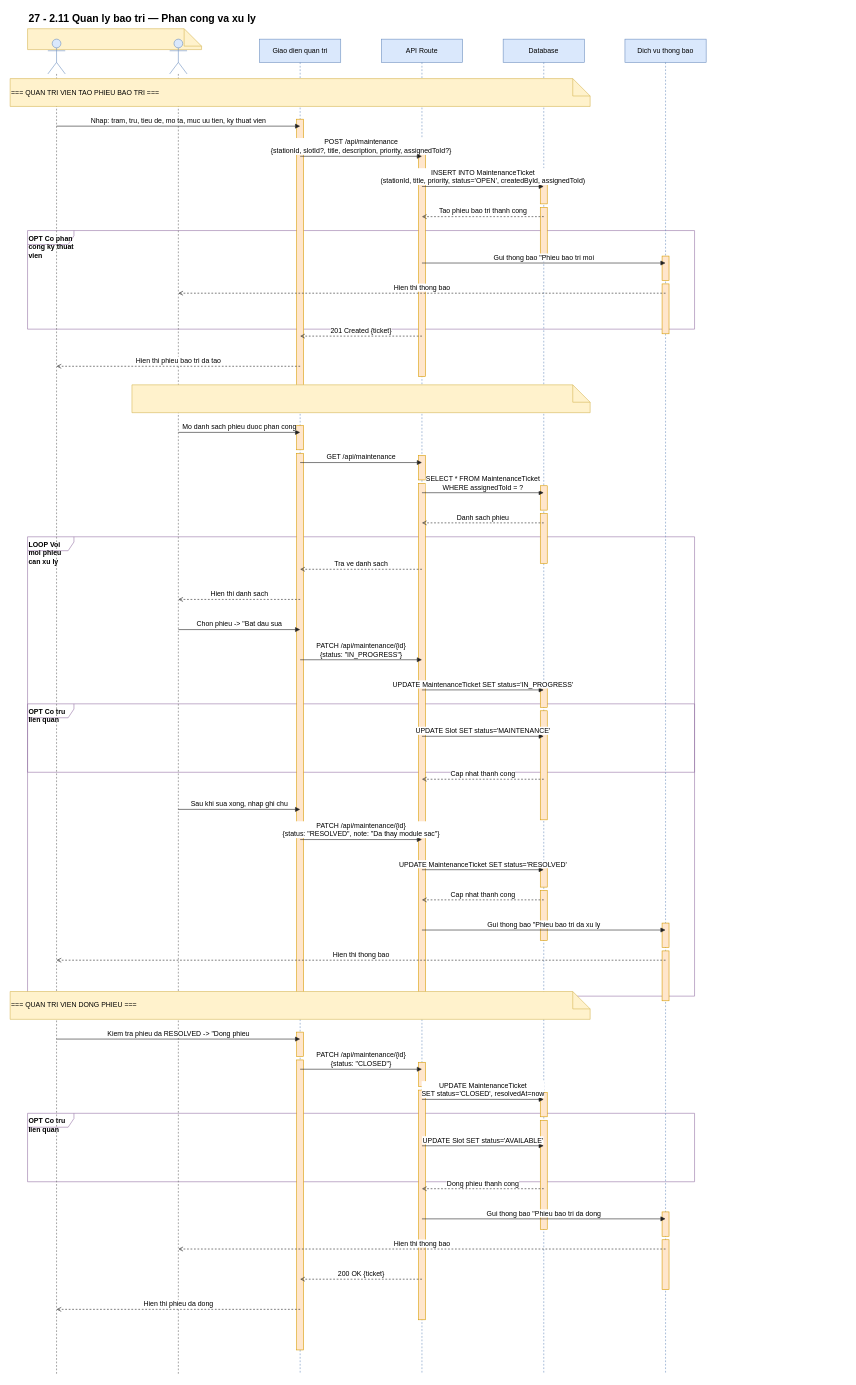
Image size: 856x1385. Some labels were removed from this diagram. Each missing label, with the centre of its shape:
=== KY THUAT VIEN XU LY ===: point (360, 398)
Mermaid sequence source: PHAN_TICH_THIET_KE_HE_THONG.md:1384: point (114, 39)
